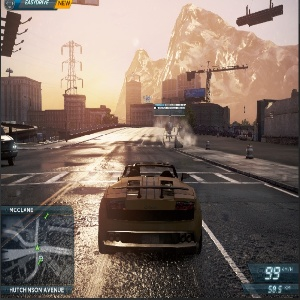ad: (183, 88, 207, 98)
building: (32, 107, 123, 131), (160, 76, 201, 127), (123, 74, 159, 126), (2, 78, 41, 124)
road sign: (155, 107, 186, 118)
vehicle: (1, 125, 19, 168)
